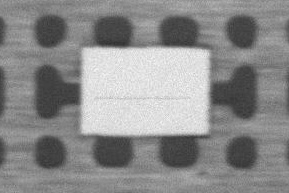DIE_CRACK: (94, 94, 191, 101)
